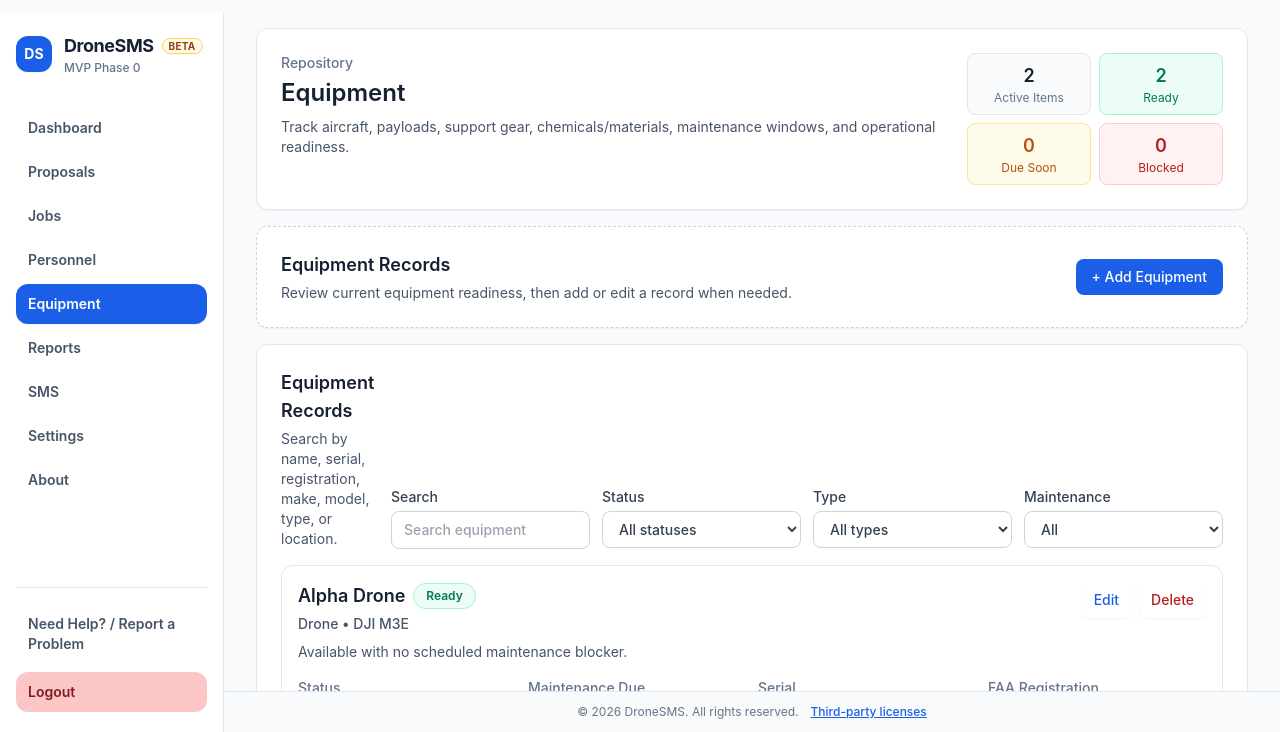
Test case: Equipment inline editing › cancel discards unsaved changes and only one record is editable at a time
This screenshot has width=1280, height=732.
Expected: the heading "Alpha Drone" is shown, [298,582,405,610]
Click the button "Edit" at (1106, 600), box [1082,582,1131,618]
(page scrolled)
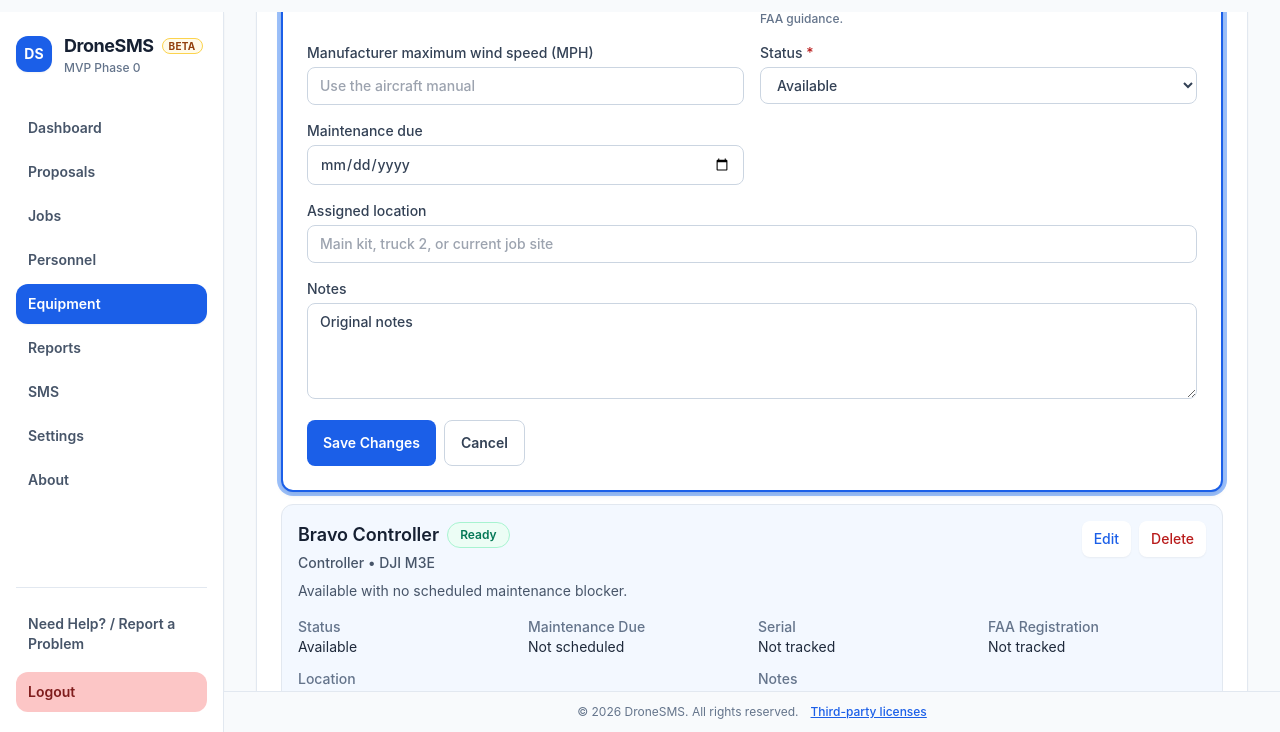
Type " unsaved" into the text box labelled "Notes" at (752, 351), box [307,303,1197,399]
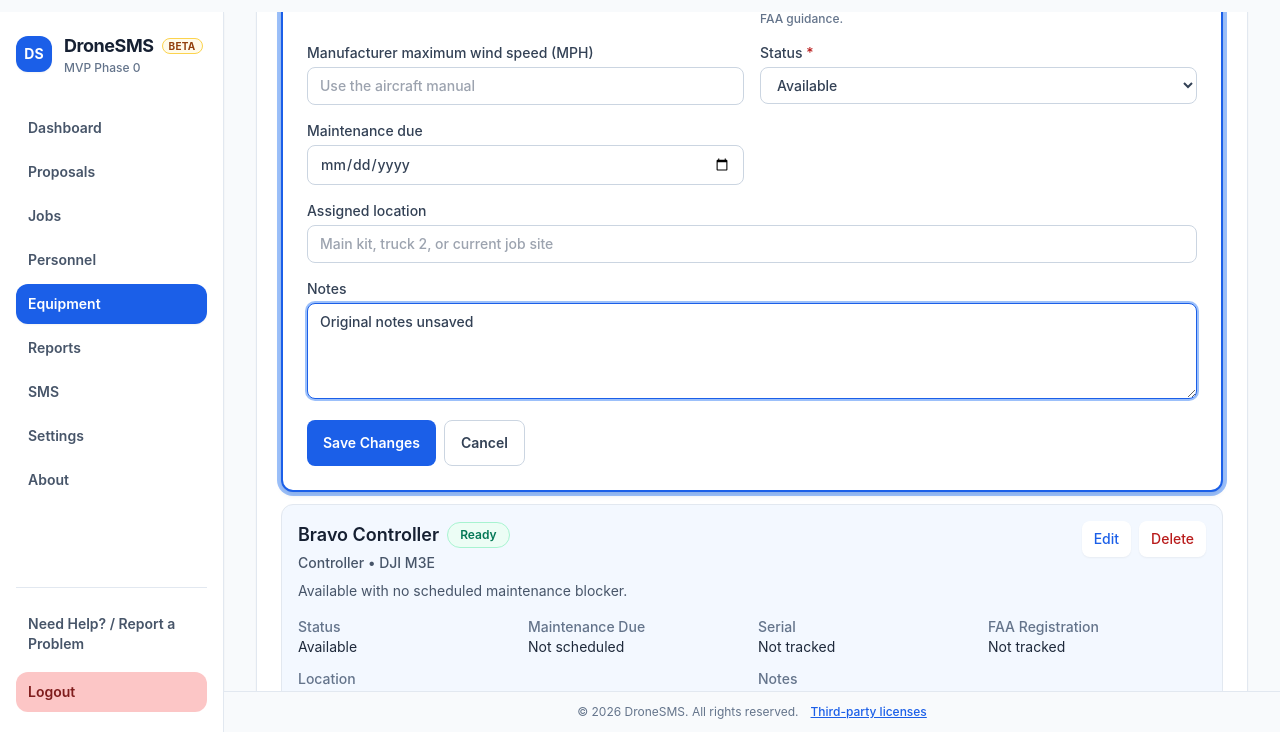
Click the button "Cancel" at (484, 443), box [444,420,525,466]
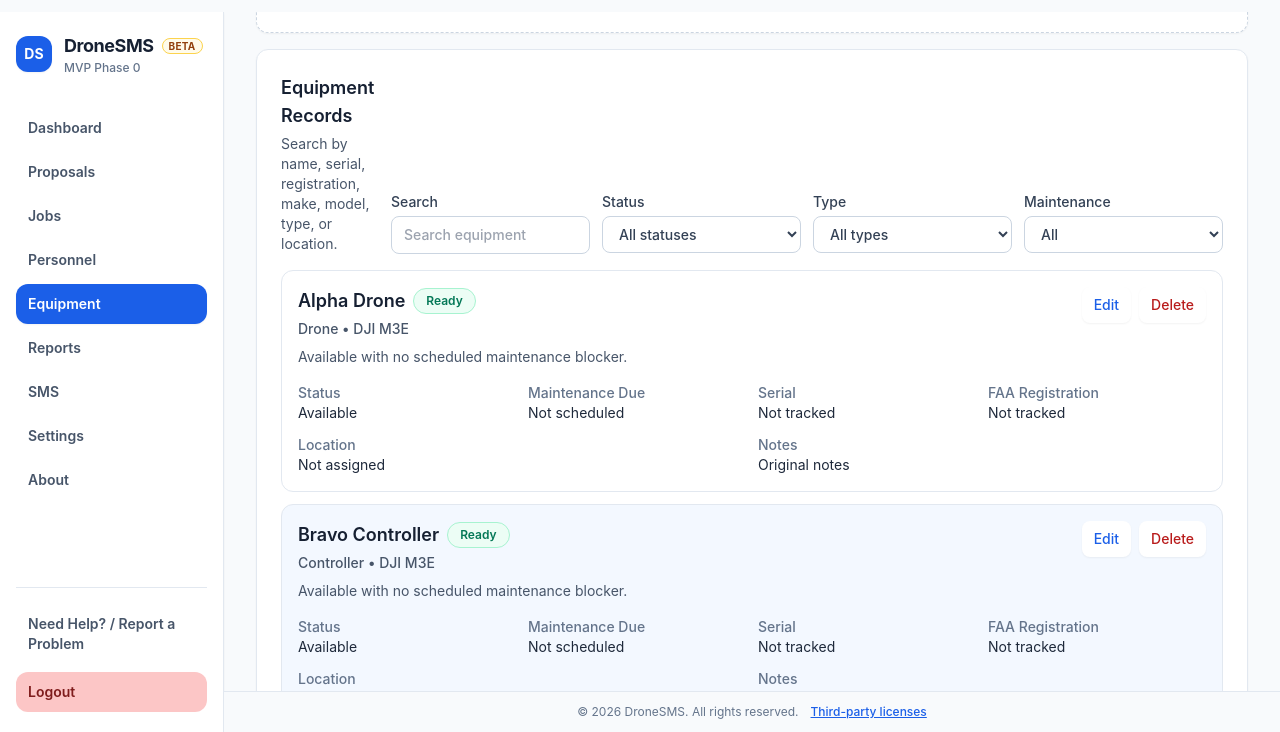
Now the text "Original notes" is shown, box [758,456,850,473]
Click the button "Edit" in the row of "Alpha Drone" at (1106, 305), box [1082,287,1131,323]
(page scrolled)
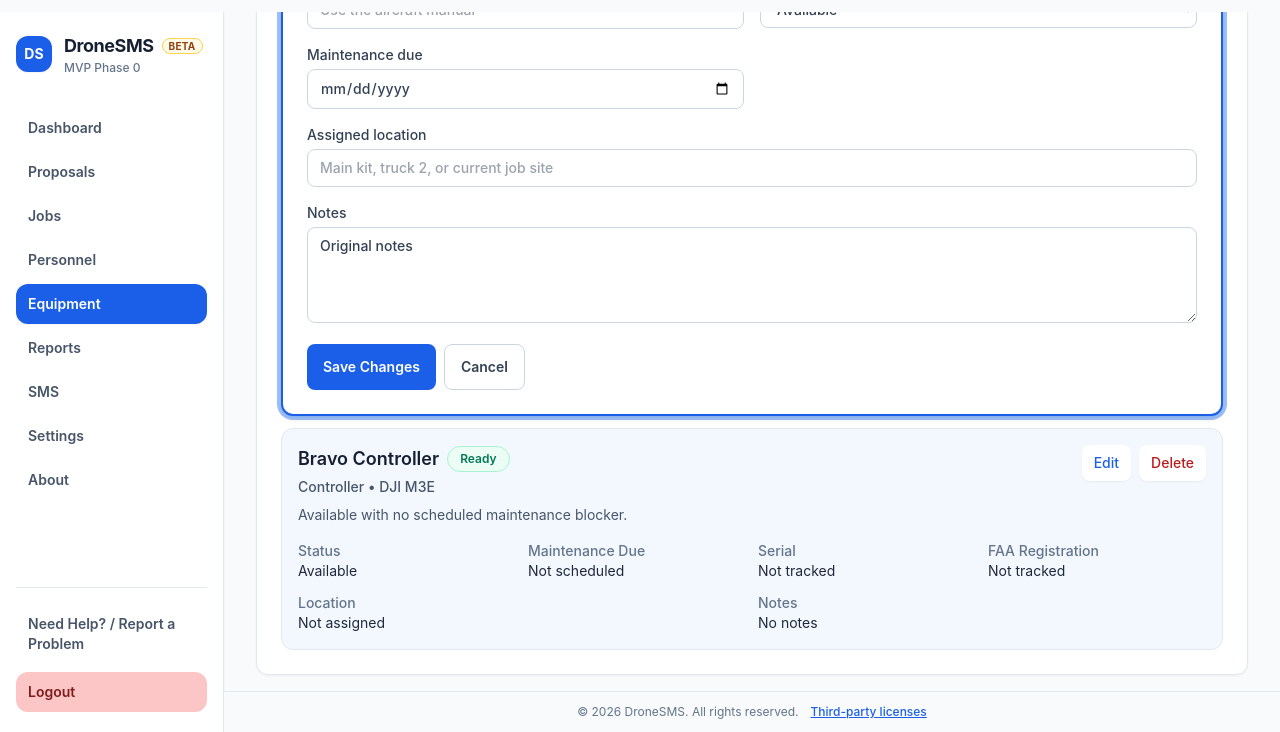
Now the text box labelled "Notes" holds "Original notes", box [307,227,1197,323]
Click the button "Edit" at (1106, 463), box [1082,445,1131,481]
(page scrolled)
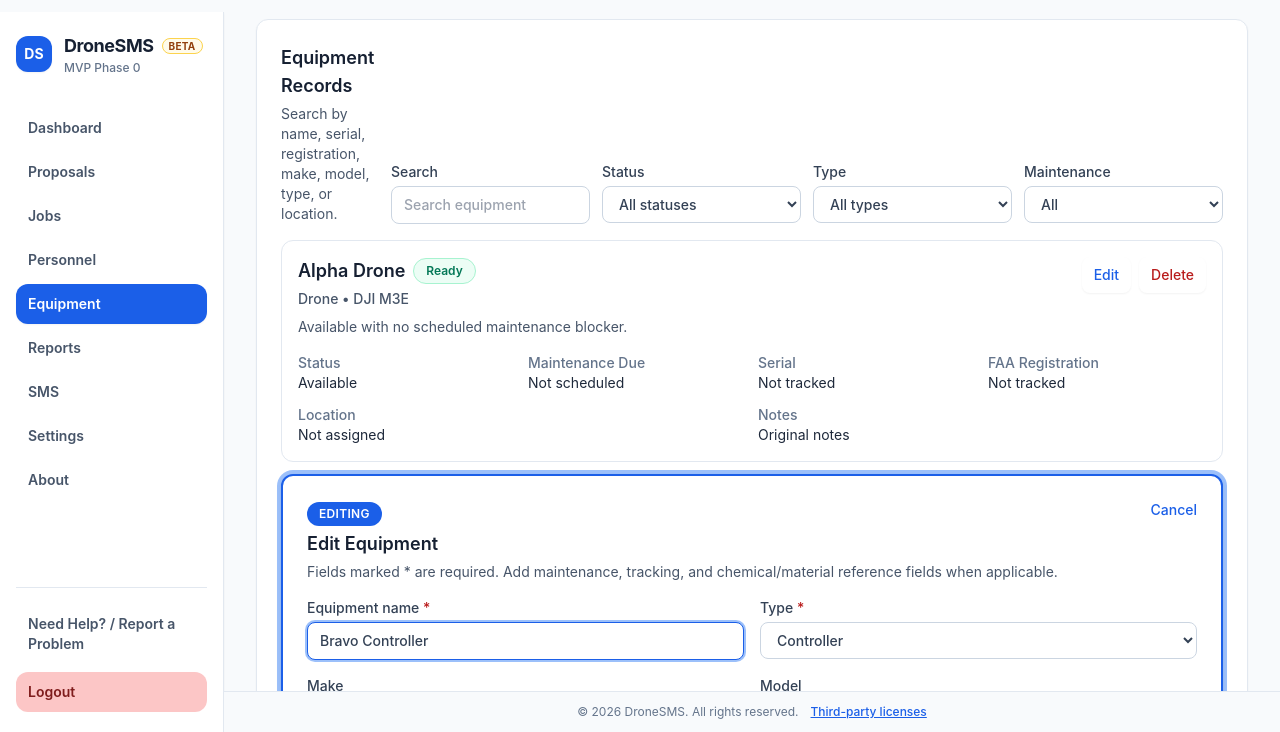
Now the field labelled "Equipment name" holds "Bravo Controller", box [307,622,744,660]
Now the element "Alpha Drone" is shown, box [281,240,1223,462]
